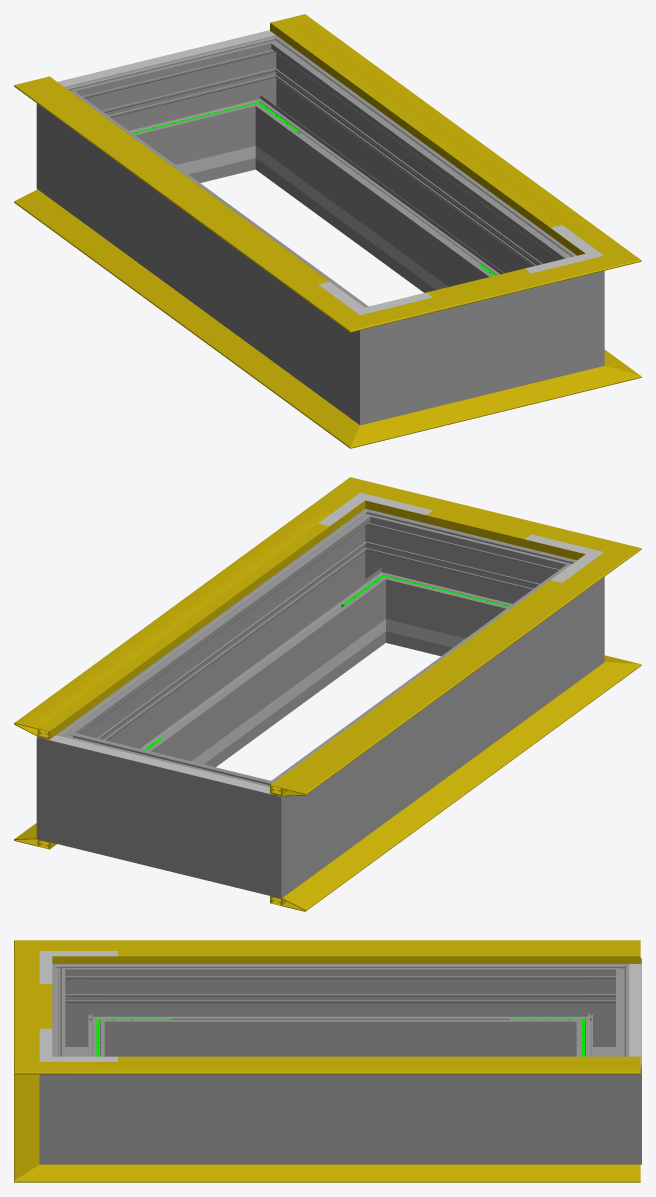
3 renders of one model, top to bottom at view 1: azimuth 30°, elevation 25°; view 2: azimuth 150°, elevation 25°; view 3: azimuth 270°, elevation 25°, orthographic. The views are drawn at different scales.
Visible parts, largest first — view 1: 3DGeom-297, 3DGeom-268, 3DGeom-270, 3DGeom-276, 3DGeom-145, 3DGeom-298, 3DGeom-38, 3DGeom-147, 3DGeom-290, 3DGeom-284, 3DGeom-278, 3DGeom-154 (+13 smaller); view 2: 3DGeom-297, 3DGeom-268, 3DGeom-278, 3DGeom-276, 3DGeom-298, 3DGeom-145, 3DGeom-38, 3DGeom-284, 3DGeom-147, 3DGeom-290, 3DGeom-270, 3DGeom-154 (+11 smaller); view 3: 3DGeom-268, 3DGeom-297, 3DGeom-147, 3DGeom-30, 3DGeom-284, 3DGeom-290, 3DGeom-145, 3DGeom-278, 3DGeom-270, 3DGeom-152, 3DGeom-154, 3DGeom-33 (+10 smaller).
Boxes of the visible parts, bbox=[...] form: 3DGeom-297: bbox=[262, 61, 550, 292]; 3DGeom-268: bbox=[79, 112, 341, 394]; 3DGeom-270: bbox=[318, 287, 432, 425]; 3DGeom-276: bbox=[111, 45, 243, 182]; 3DGeom-145: bbox=[270, 14, 598, 245]; 3DGeom-298: bbox=[433, 288, 531, 407]; 3DGeom-38: bbox=[14, 189, 331, 417]; 3DGeom-147: bbox=[14, 77, 342, 301]; 3DGeom-290: bbox=[532, 236, 604, 383]; 3DGeom-284: bbox=[209, 31, 311, 174]; 3DGeom-278: bbox=[36, 69, 144, 219]; 3DGeom-154: bbox=[38, 76, 329, 284]; 3DGeom-297: bbox=[91, 534, 378, 767]; 3DGeom-268: bbox=[300, 585, 562, 867]; 3DGeom-278: bbox=[208, 760, 323, 898]; 3DGeom-276: bbox=[109, 745, 221, 880]; 3DGeom-298: bbox=[398, 523, 524, 656]; 3DGeom-145: bbox=[14, 507, 343, 739]; 3DGeom-38: bbox=[270, 683, 599, 911]; 3DGeom-284: bbox=[36, 709, 123, 856]; 3DGeom-147: bbox=[270, 570, 599, 796]; 3DGeom-290: bbox=[330, 508, 425, 647]; 3DGeom-270: bbox=[496, 547, 604, 692]; 3DGeom-154: bbox=[270, 580, 561, 790]; 3DGeom-268: bbox=[118, 964, 563, 1056]; 3DGeom-297: bbox=[118, 1074, 563, 1164]; 3DGeom-147: bbox=[92, 940, 640, 963]; 3DGeom-30: bbox=[92, 1164, 640, 1182]; 3DGeom-284: bbox=[563, 1036, 641, 1164]; 3DGeom-290: bbox=[39, 1036, 117, 1164]; 3DGeom-145: bbox=[92, 1062, 640, 1074]; 3DGeom-278: bbox=[563, 958, 641, 1056]; 3DGeom-270: bbox=[52, 964, 117, 1056]; 3DGeom-152: bbox=[118, 1056, 640, 1061]; 3DGeom-154: bbox=[118, 951, 640, 956]; 3DGeom-33: bbox=[14, 1142, 92, 1182].
Bounding box in the file's own units: 0.6096 × 0.2357 × 1.22.
